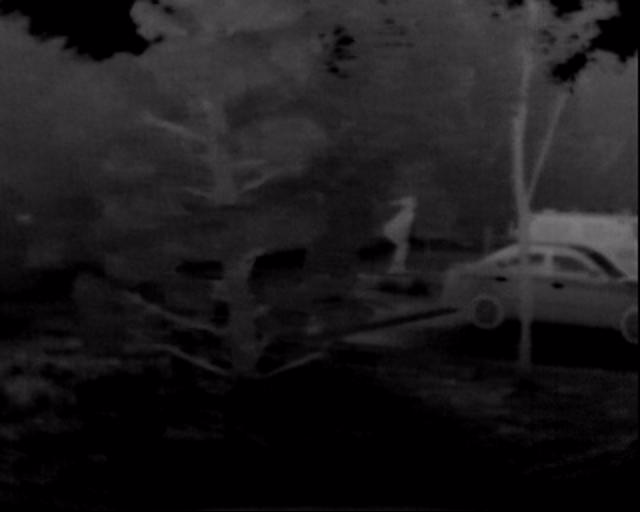person: (376, 188, 426, 280)
